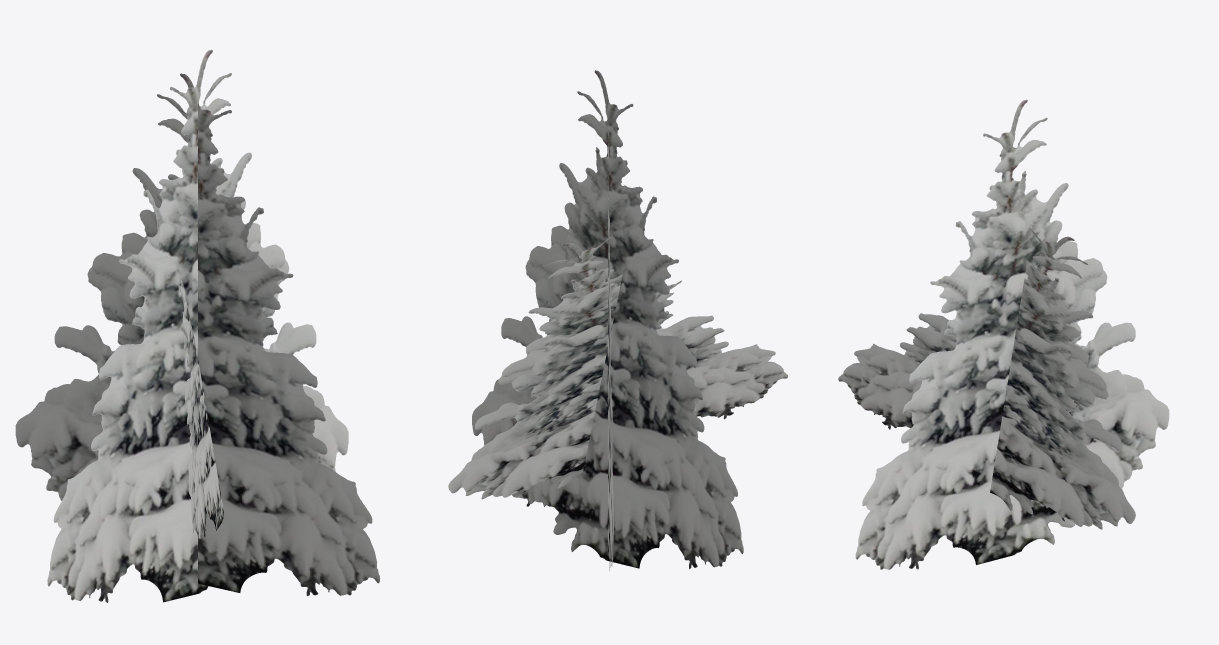
The model's file is cherry snow trees 2.fbx.
3 renders of one model, left to right at view 1: azimuth 30°, elevation 25°; view 2: azimuth 150°, elevation 25°; view 3: azimuth 270°, elevation 25°, orthographic. The views are drawn at different scales.
Visible parts, largest first — view 1: snowbush2_snowbush_0.013; view 2: snowbush2_snowbush_0.013; view 3: snowbush2_snowbush_0.013.
Part boxes in pixels (x1,y1,x2,y2): snowbush2_snowbush_0.013: (15, 49, 380, 602); snowbush2_snowbush_0.013: (448, 70, 787, 570); snowbush2_snowbush_0.013: (838, 99, 1169, 569).
Size of the model in its own units: 17421 by 27798 by 19867.
